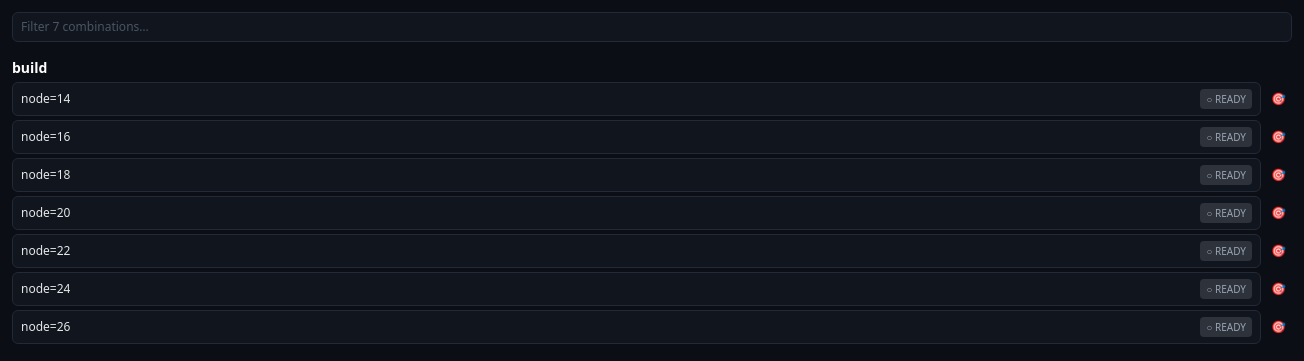
MatrixExplorer › only shows the filter box once combinations exceed the threshold, and it filters by combo label
The image size is (1304, 361).
expect the button "node=14 ○ ready" is shown: met, box x1=12 y1=82 x2=1261 y2=116
expect the button "node=26 ○ ready" is shown: met, box x1=12 y1=310 x2=1261 y2=344
Type "24" into the field with test id "matrix-filter". click: (652, 27)
box: x1=12 y1=12 x2=1292 y2=42
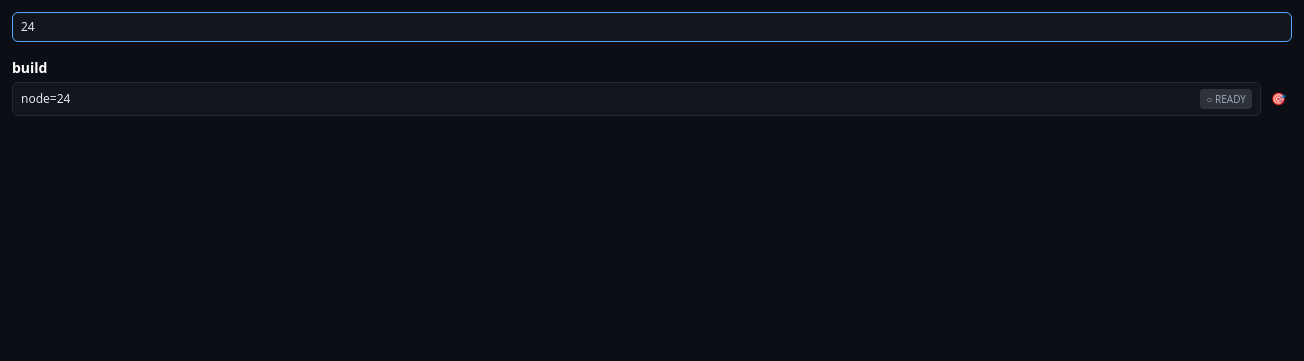
expect the button "node=24 ○ ready" is shown: met, box x1=12 y1=82 x2=1261 y2=116
expect the button "node=14" is gone: met
